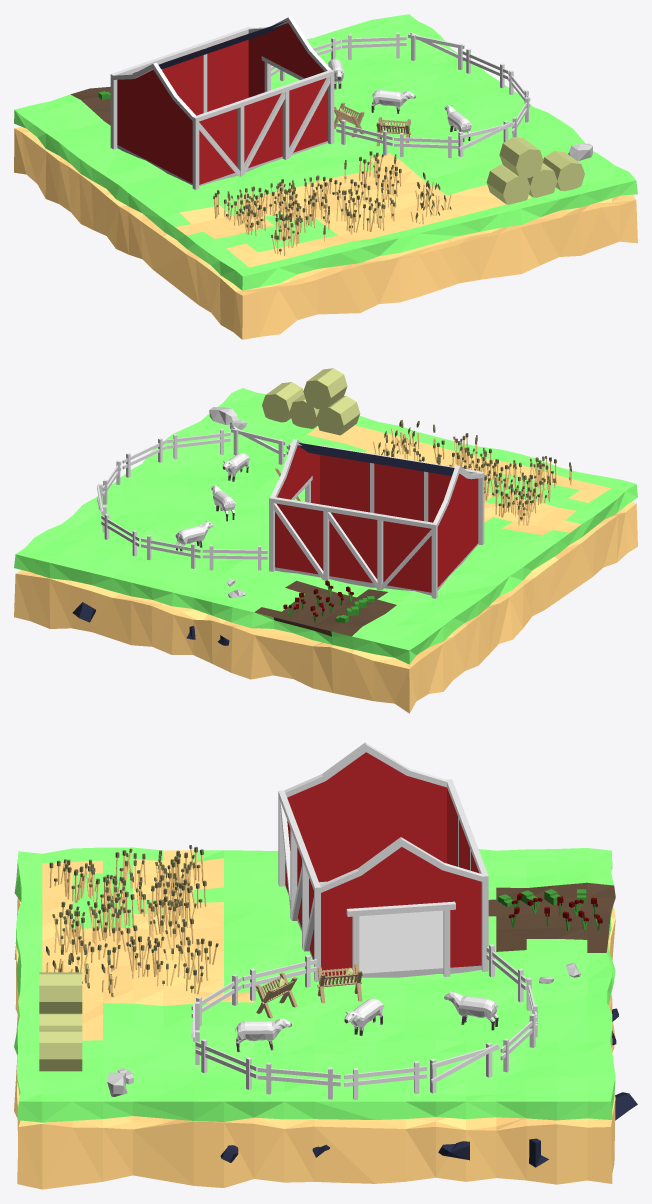
File: low-poly-farm.fbx
3 renders of one model, top to bottom at view 1: azimuth 30°, elevation 25°; view 2: azimuth 150°, elevation 25°; view 3: azimuth 270°, elevation 25°, orthographic. The views are drawn at different scales.
Visible parts, largest first — view 1: Plane.002, Plane.003, Cube.001, Cube.000, Cube.040, Plane.001, Cube.013, Cube.005, Cube.010, Cube.011, Cube.009, Cube.012 (+6 smaller); view 2: Plane.002, Plane.003, Cube.001, Cube.000, Plane.001, Cube.040, Cube.013, Cube.002, Cube.008, Cube.004, Cube.011, Cube.003 (+3 smaller); view 3: Plane.002, Plane.003, Cube.001, Cube.040, Cube.000, Cube.003, Plane.001, Cube.006, Cube.007, Cube.012, sheep.002, Cube.009 (+8 smaller).
Boxes of the visible parts, x1,y1,x2,y2 form: Plane.002: (14,14,637,290); Plane.003: (14,126,637,339); Cube.001: (117,23,327,184); Cube.000: (110,16,334,189); Cube.040: (213,151,401,255); Plane.001: (486,137,584,204); Cube.013: (158,20,287,69); Cube.005: (342,32,406,59); Cube.010: (394,133,458,158); Cube.011: (458,120,513,156); Cube.009: (336,119,392,155); Cube.012: (408,32,464,69); Plane.002: (14,388,637,664); Plane.003: (14,502,637,713); Cube.001: (275,445,478,592); Cube.000: (269,439,484,598); Plane.001: (262,368,360,435); Cube.040: (383,433,571,525); Cube.013: (298,442,454,475); Cube.002: (202,545,267,570); Cube.008: (167,429,230,459); Cube.004: (141,535,200,568); Cube.011: (231,426,285,464); Cube.003: (275,543,478,595); Plane.002: (14,847,615,1122); Plane.003: (14,875,615,1189); Cube.001: (285,752,481,975); Cube.040: (49,845,218,994); Cube.000: (278,742,488,981); Cube.003: (285,881,481,977); Plane.001: (39,972,82,1071); Cube.006: (344,1061,426,1099); Cube.007: (257,1062,340,1099); Cube.012: (430,1042,499,1093); sheep.002: (444,991,498,1030); Cube.009: (242,955,317,1000).
Bounding box in the file's own units: 1640 × 661 × 1652.
